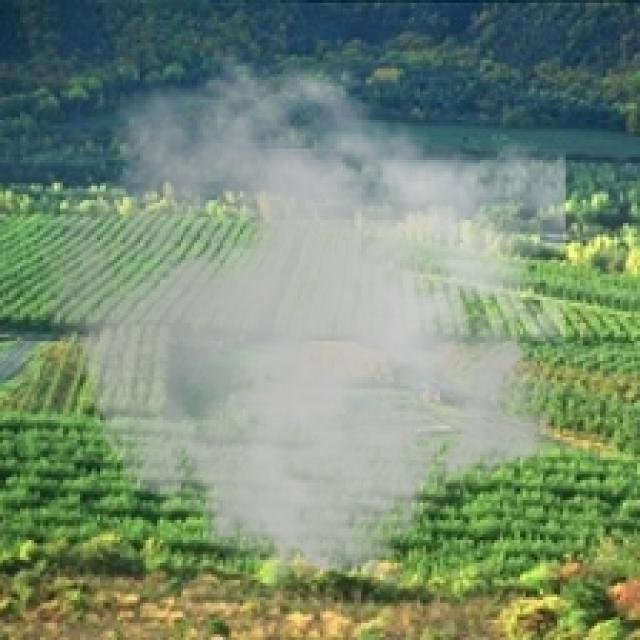Smoke: (34, 45, 566, 598)
